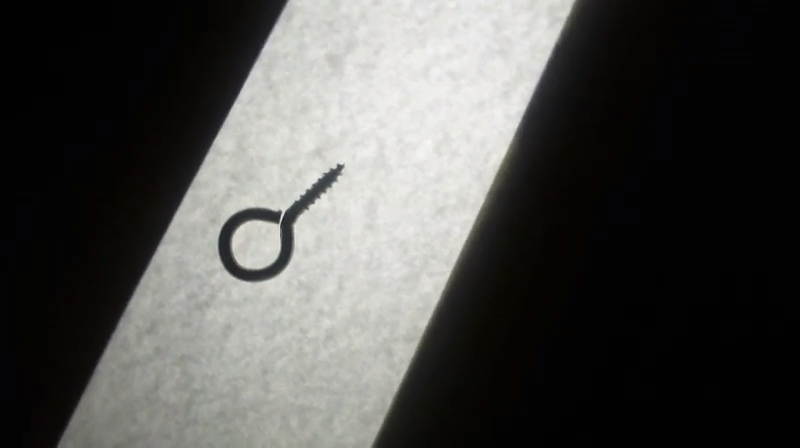O001: (213, 162, 346, 284)
